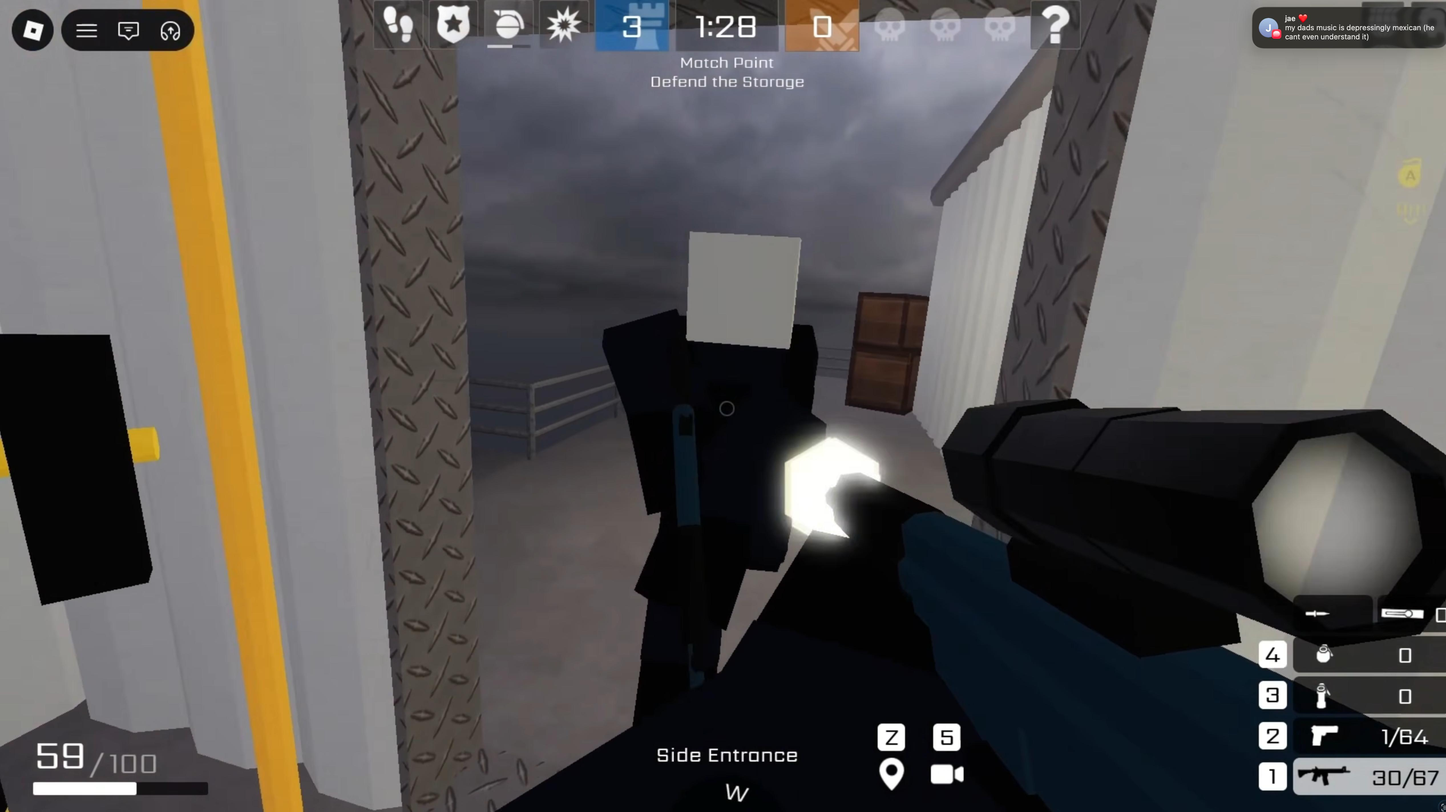enemy: (579, 197, 871, 749)
